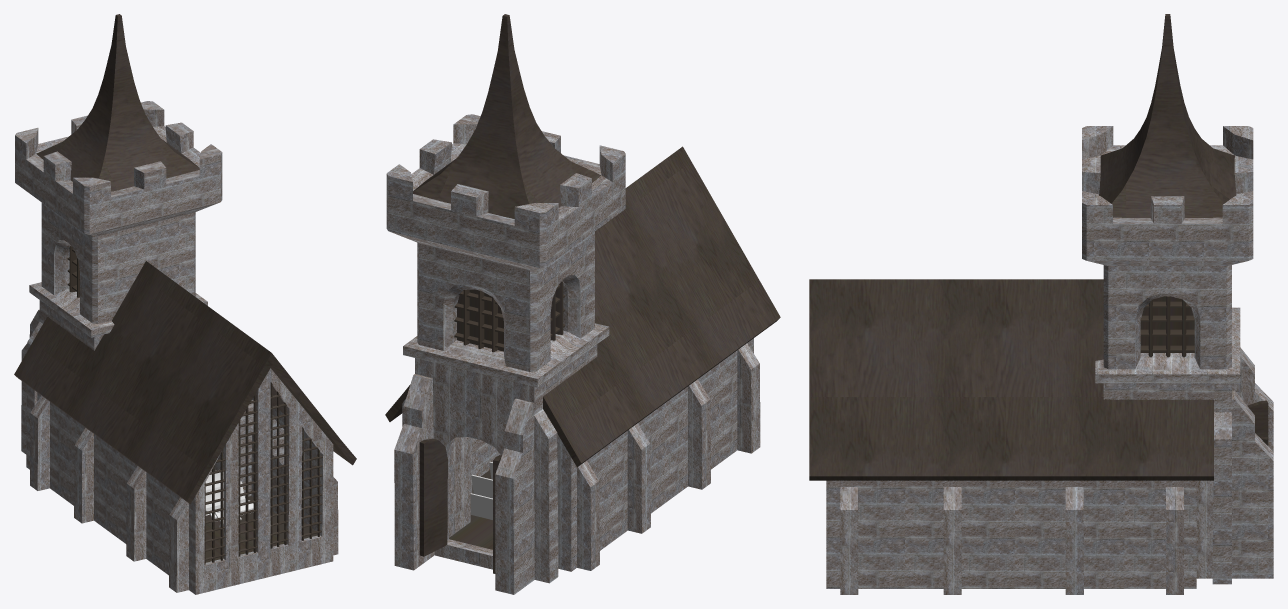
Rendered from ChurchBuilding.fbx.
3 views of the same model, side by side, from view 1: azimuth 30°, elevation 25°; view 2: azimuth 150°, elevation 25°; view 3: azimuth 270°, elevation 25° (orthographic). The views are drawn at different scales.
Parts seen in each view (by area): view 1: Building, Roof, Bars.068, Floor, Bench.008, Bars.001; view 2: Building, Roof, Building.001, Bars, TowerWindows, Floor, Bars.001; view 3: Building, Roof, Bars.002, TowerWindows.
Part boxes in pixels (box(x1,y1,x2,y2)): Building: box(15, 101, 338, 594); Roof: box(14, 14, 356, 504); Bars.068: box(238, 393, 257, 556); Floor: box(205, 469, 317, 562); Bench.008: box(205, 481, 253, 521); Bars.001: box(67, 246, 79, 297); Building: box(386, 114, 760, 594); Roof: box(385, 14, 780, 467); Building.001: box(419, 438, 447, 556); Bars: box(454, 289, 503, 352); TowerWindows: box(457, 289, 503, 351); Floor: box(449, 470, 492, 549); Bars.001: box(550, 281, 565, 340); Building: box(826, 126, 1273, 594); Roof: box(809, 14, 1236, 480); Bars.002: box(1140, 296, 1194, 357); TowerWindows: box(1140, 296, 1194, 352).
Size of the model in its own units: 247 by 633 by 499.
